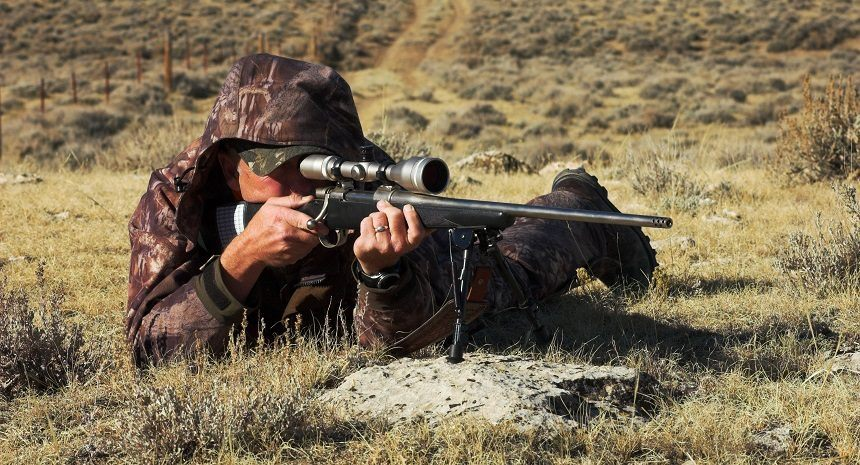Gun: (317, 154, 633, 248)
